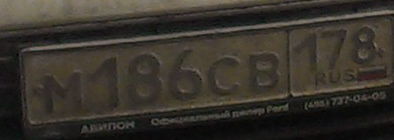character: (123, 51, 164, 111), (40, 67, 87, 119), (164, 47, 206, 105), (89, 51, 123, 114), (245, 48, 286, 93), (207, 55, 242, 99), (318, 25, 349, 73), (349, 24, 380, 67), (292, 28, 319, 76)
